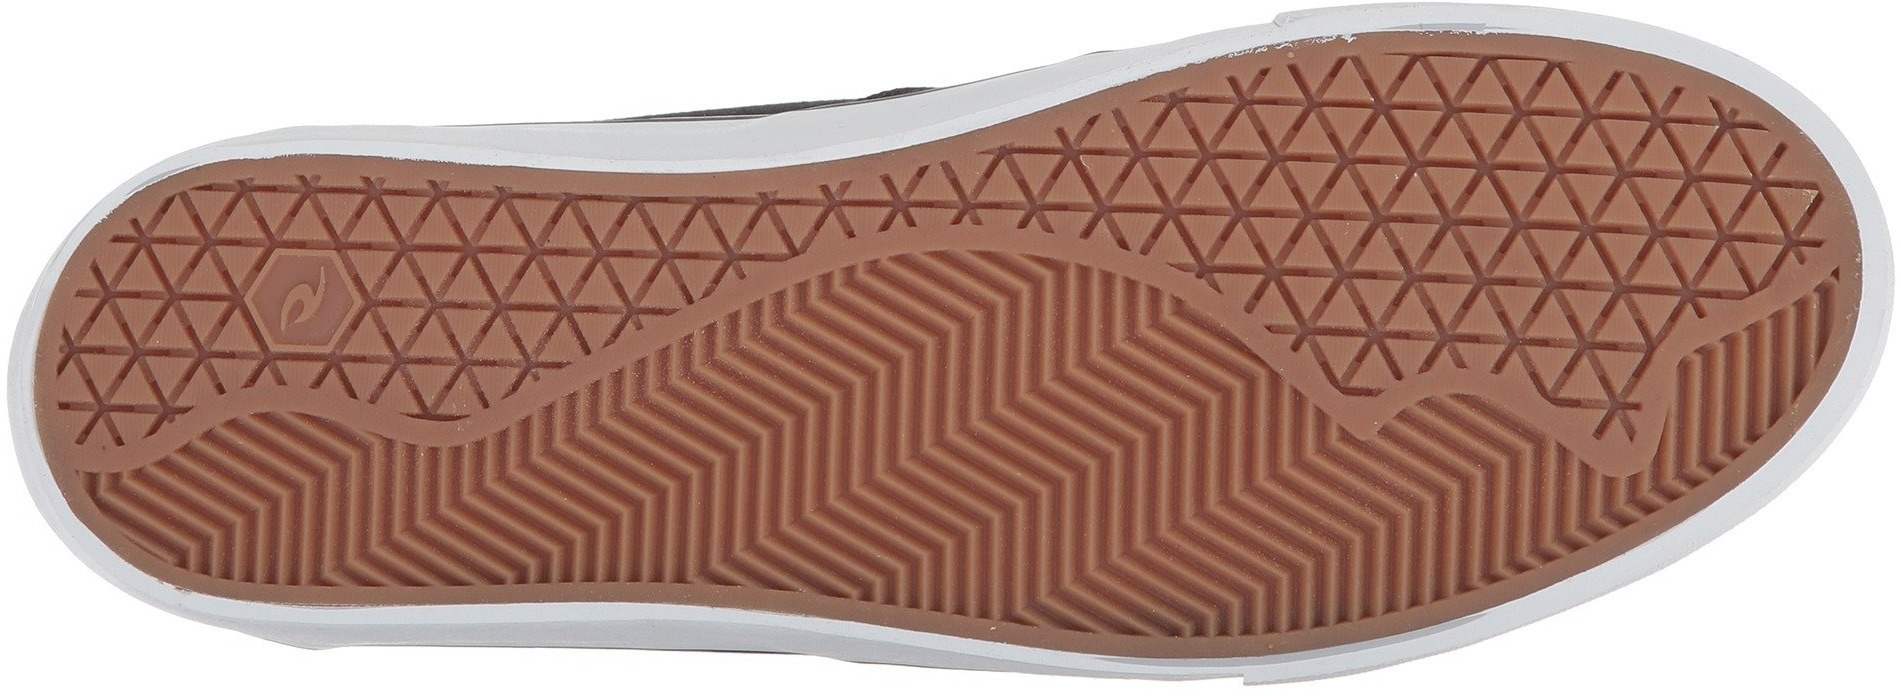chevron: (834, 313, 1111, 572), (1119, 403, 1338, 618), (587, 397, 783, 584), (215, 424, 379, 575), (1388, 429, 1528, 561)
polygon: (1445, 95, 1686, 325), (376, 205, 567, 373), (1183, 104, 1348, 266), (67, 281, 202, 423)
star: (1572, 367, 1675, 463)
triangle: (1445, 95, 1686, 325), (376, 205, 567, 373), (1183, 104, 1348, 266), (67, 281, 202, 423)
